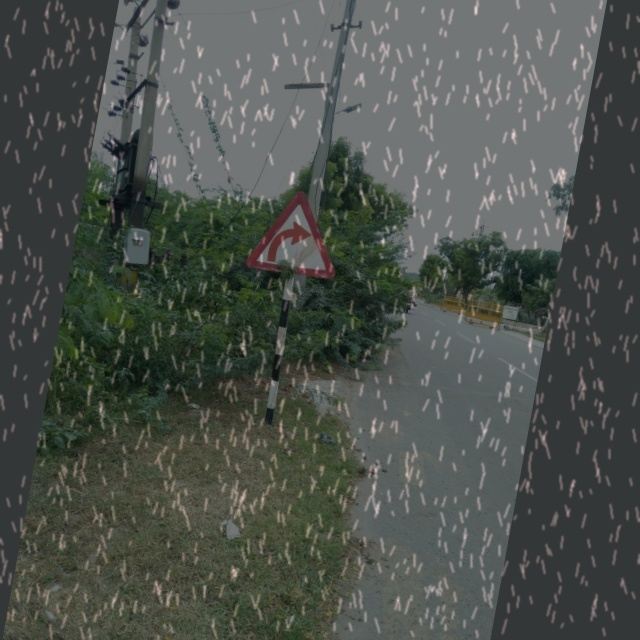Right_Hand_Curve: (244, 181, 352, 286)
